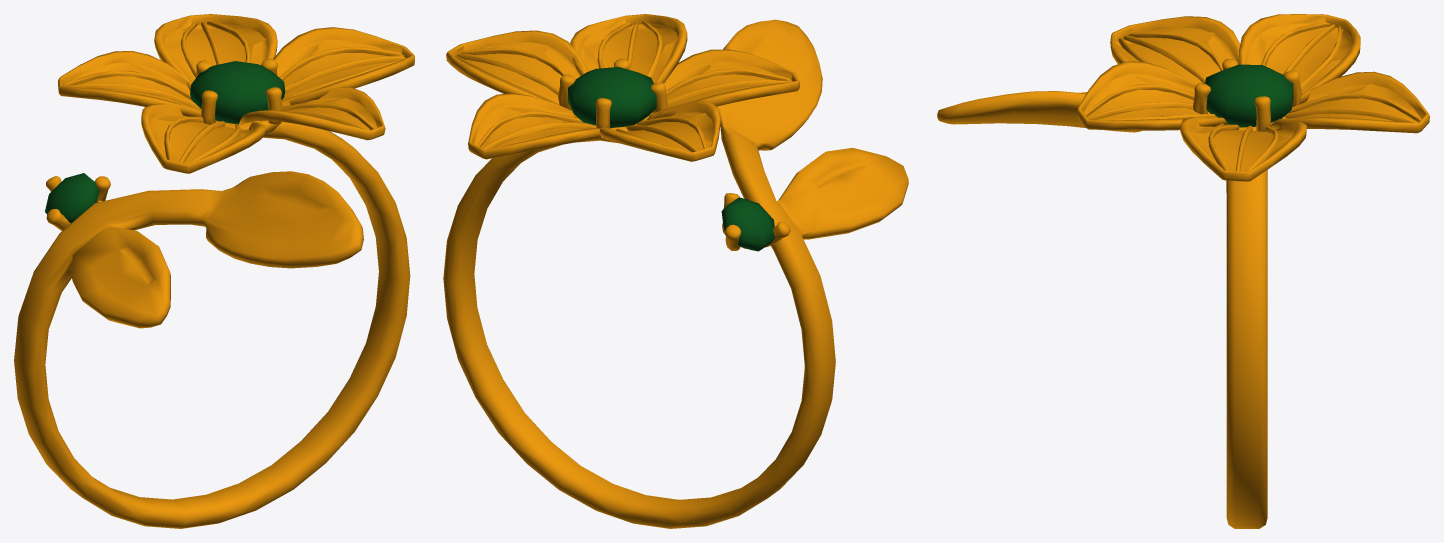
3 views of the same model, side by side, from view 1: azimuth 30°, elevation 25°; view 2: azimuth 150°, elevation 25°; view 3: azimuth 270°, elevation 25° (orthographic). The views are drawn at different scales.
Parts seen in each view (by area): view 1: 1; view 2: 1; view 3: 1.
Boxes of the visible parts, bbox=[...] form: 1: bbox=[14, 14, 414, 528]; 1: bbox=[443, 14, 908, 528]; 1: bbox=[937, 14, 1429, 528].
Size of the model in its own units: 5.41 by 5.98 by 5.9.
